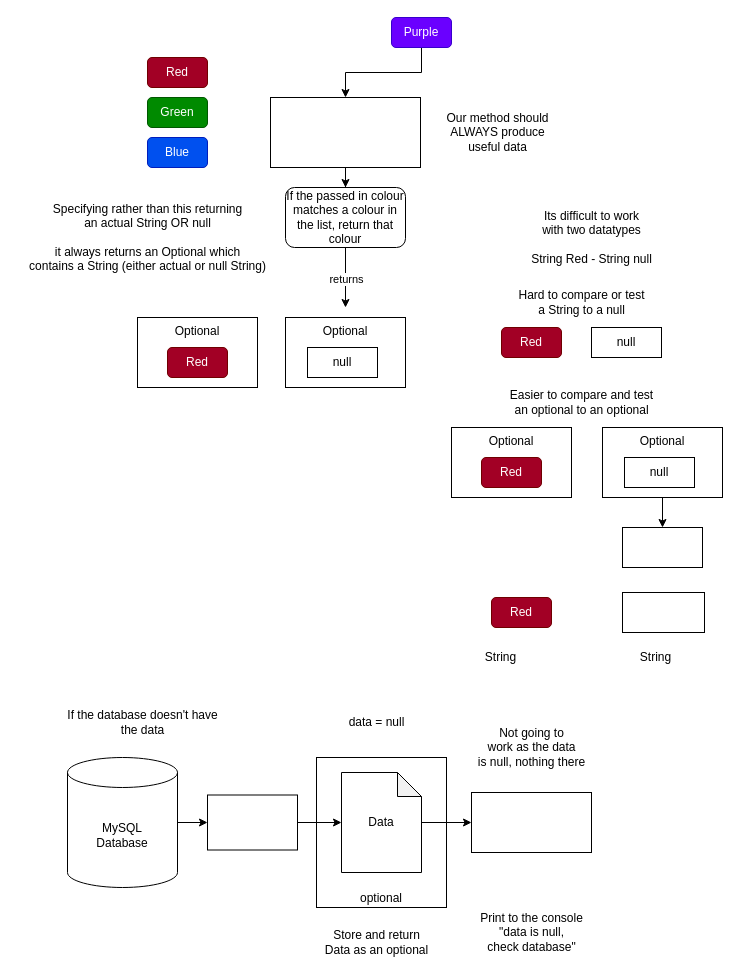
The diagram is 740 pixels wide and 975 high, and some of its shapes have lost their labels. Each missing label, with the centre of its shape:
"other Colour": point (663, 612)
find(String colour): point (345, 132)
getData(): point (252, 822)
orElse(): point (662, 547)
printData(): point (531, 822)
